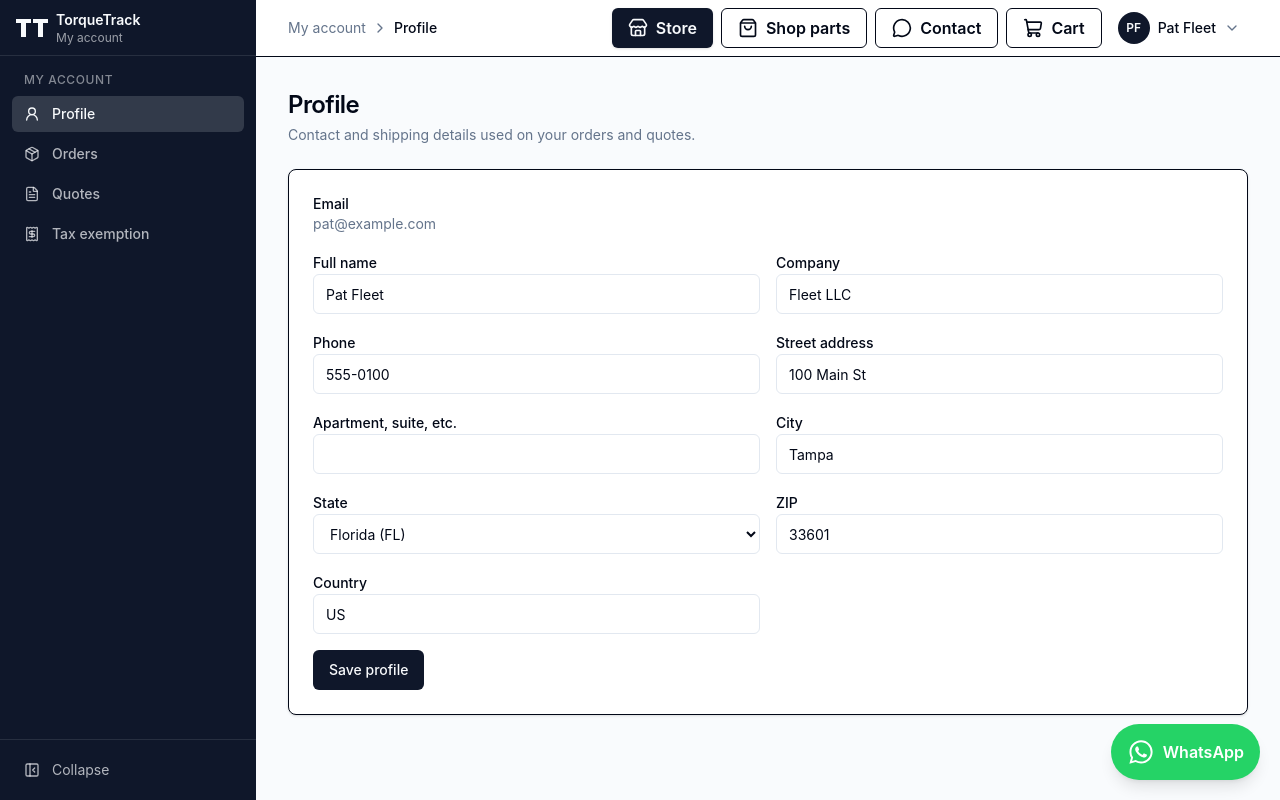
Scenario: PortalPage › lists orders with the totals returned by the API
The width and height of the screenshot is (1280, 800).
Click the link "Orders" at (61, 154), box [24,145,98,162]
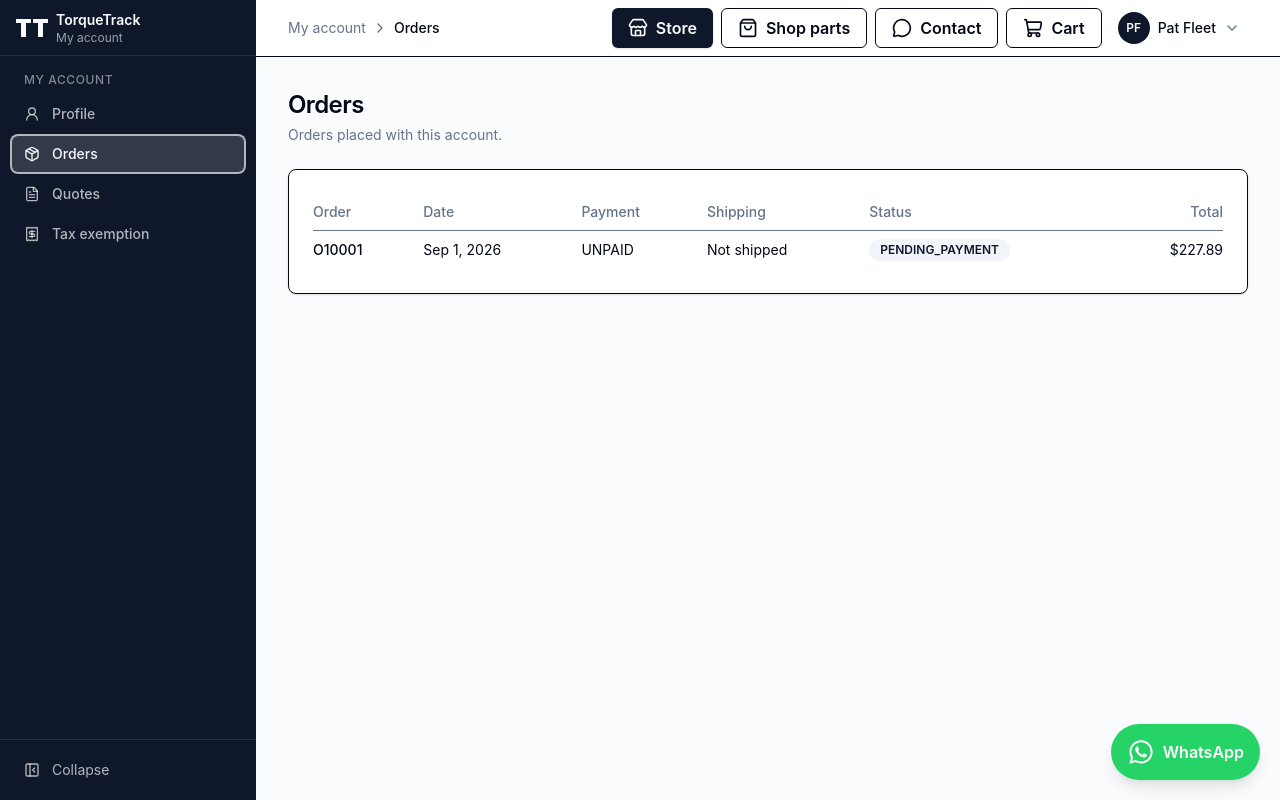
Expected: the text "O10001" is shown, [313,241,362,258]
Expected: the text "$227.89" is shown, [1133,230,1223,269]
Expected: the text "Sep 1, 2026" is shown, [423,230,581,269]
